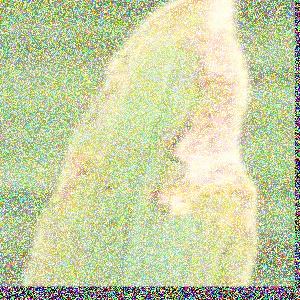Leaf_Blast: (69, 0, 256, 284)
